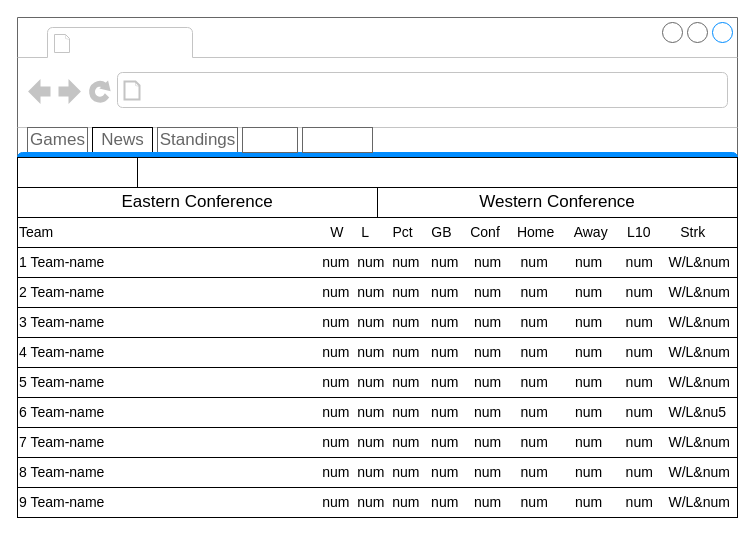
The diagram is 755 pixels wide and 535 high, and some of its shapes have lost their labels. Each missing label, with the centre of its shape:
https://www.draw.io: point 272,90
Page 1: point 132,42
Players: point 337,139
Season YY-MM: point 77,172
Stats: point 270,139
